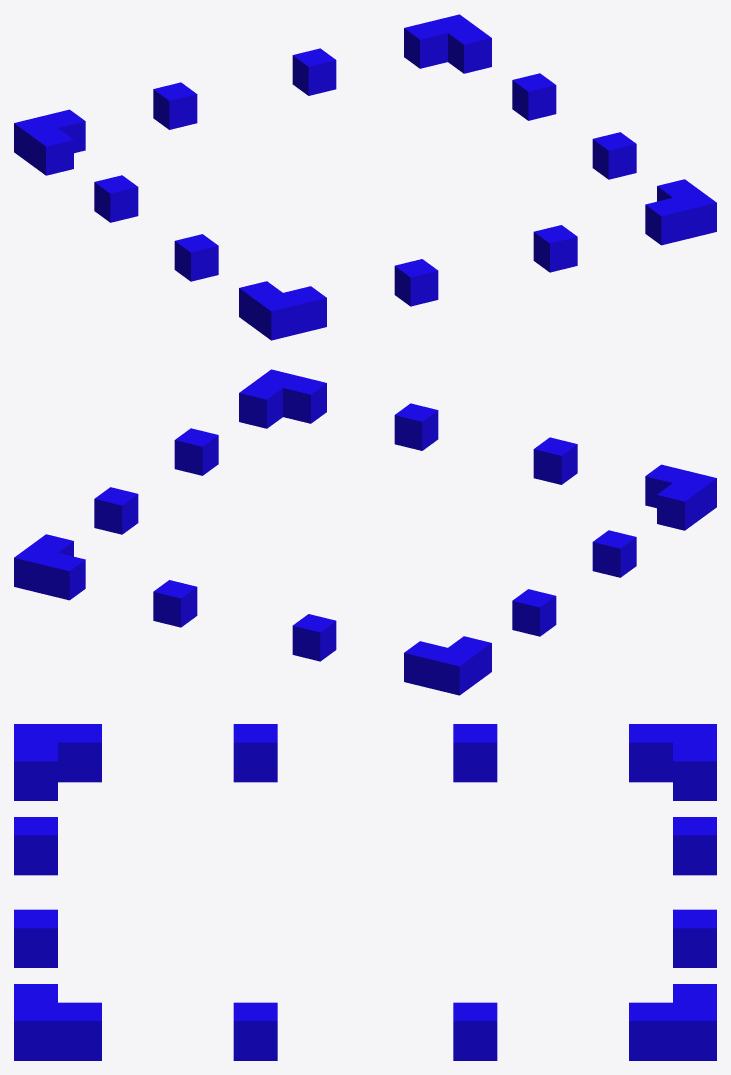
The model's file is MoveSelector.obj.
3 renders of one model, top to bottom at view 1: azimuth 30°, elevation 25°; view 2: azimuth 150°, elevation 25°; view 3: azimuth 270°, elevation 25°, orthographic. The views are drawn at different scales.
Size of the model in its own units: 1.6 by 0.1 by 1.6.
1 material, 1 textured.
